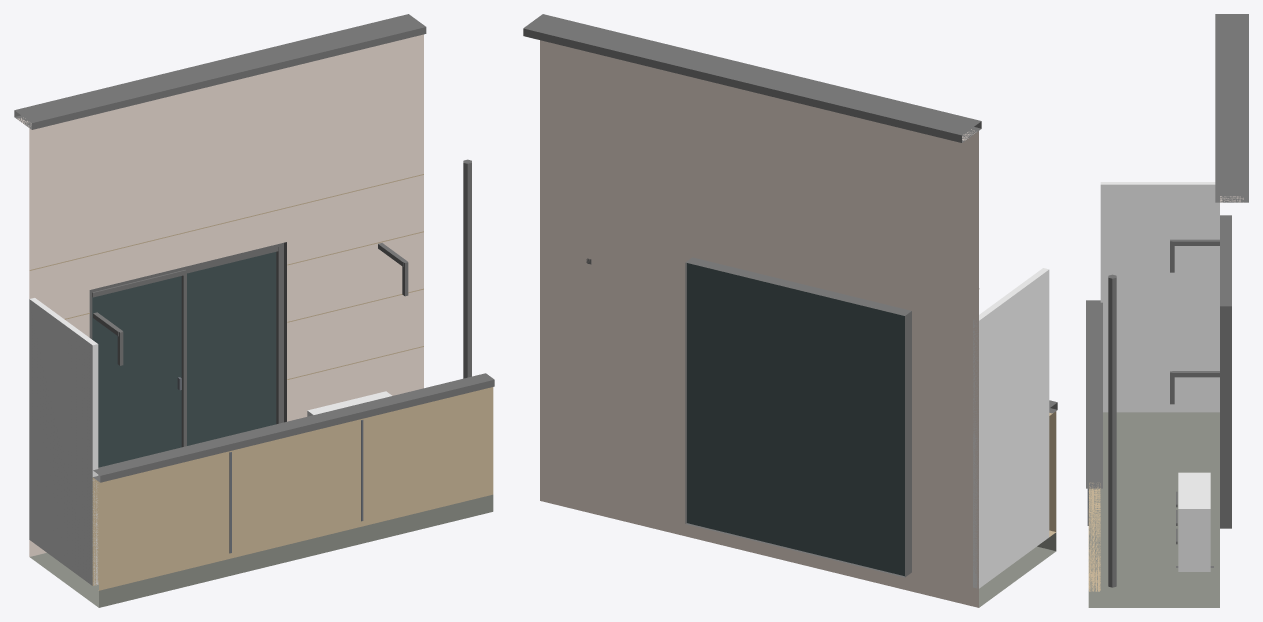
Rendered from top-w1_close.fbx.
The picture shows the model from 3 angles, left to right: view 1: azimuth 30°, elevation 25°; view 2: azimuth 150°, elevation 25°; view 3: azimuth 270°, elevation 25°; orthographic projection. The views are drawn at different scales.
Parts seen in each view (by area): view 1: a2001/200/top-w1_close; view 2: a2001/200/top-w1_close; view 3: a2001/200/top-w1_close.
Boxes of the visible parts, x1,y1,x2,y2 form: a2001/200/top-w1_close: [14, 14, 494, 607]; a2001/200/top-w1_close: [523, 14, 1057, 607]; a2001/200/top-w1_close: [1086, 14, 1248, 607].
Size of the model in its own units: 3.6 by 3.8 by 1.36.
